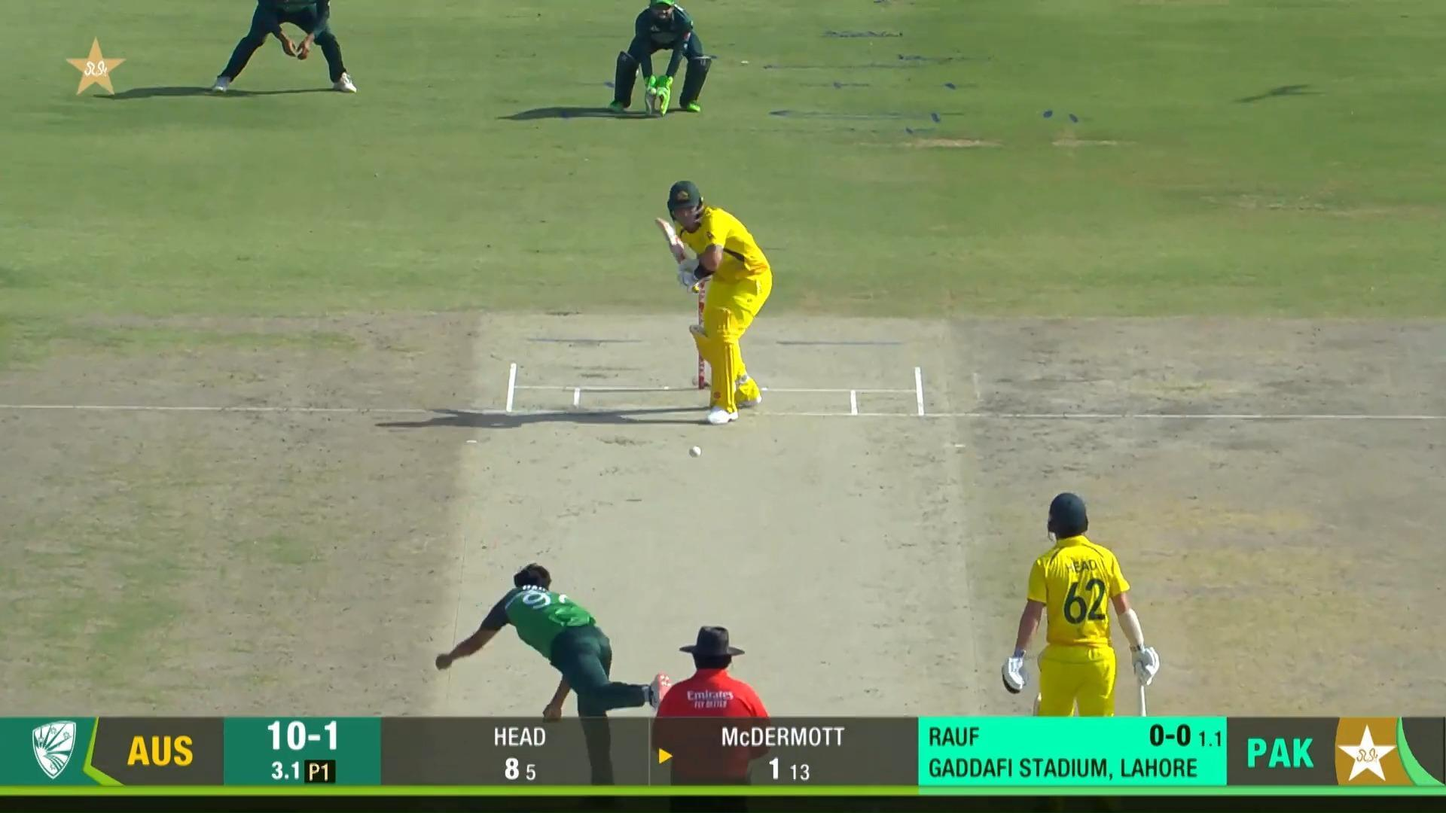BM 1: (654, 179, 773, 425)
BO: (435, 559, 679, 813)
